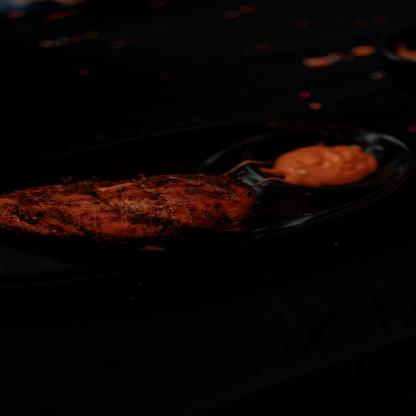Carne: (1, 170, 256, 244)
